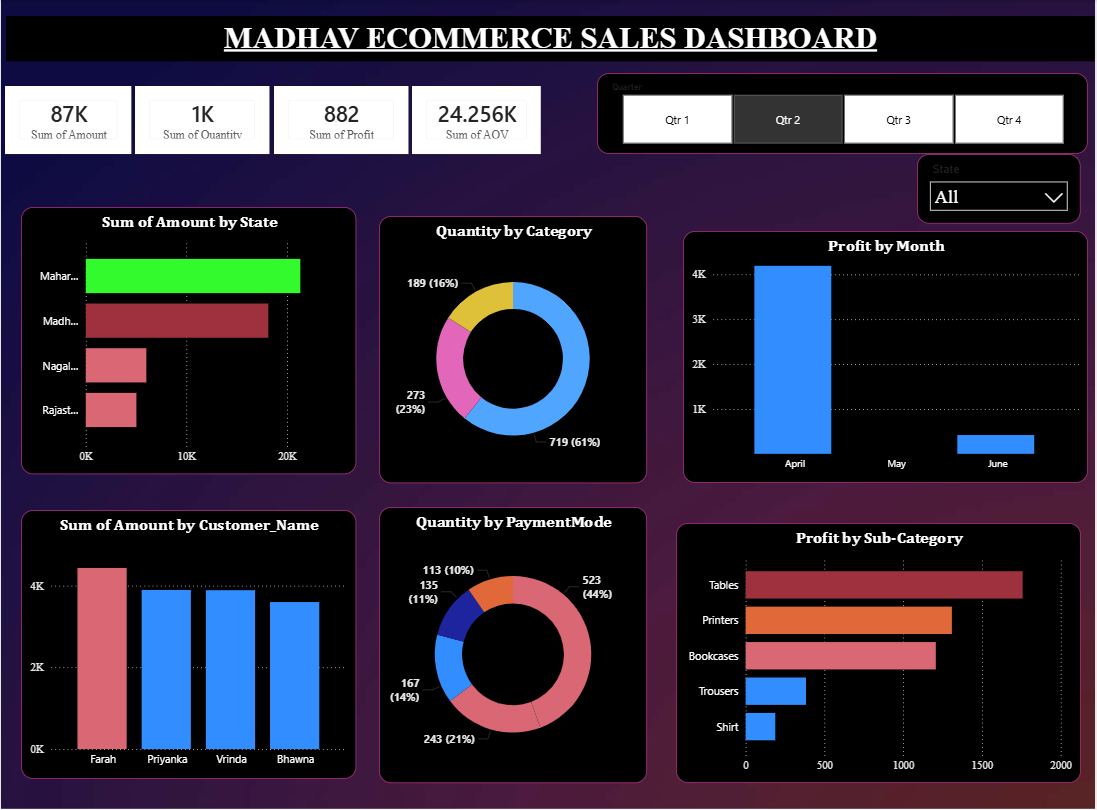

This screenshot's page, from the dashboard's own definition file:
{"tool":"powerbi","page":{"name":"Page 1","canvas":[1290,1000],"ordinal":0},"visuals":[{"type":"textbox","box":[6.5,19.6,1284,56.3],"z":0},{"type":"columnChart","title":"Profit by Month","fields":{"Category":["Orders.Order Date.Variation.Date Hierarchy.Month"],"Y":["Sum(Details.Profit)"]},"box":[780.1,297.1,500,311.5],"z":1000},{"type":"barChart","title":"Profit by Sub-Category","fields":{"Category":["Details.Sub-Category"],"Y":["Sum(Details.Profit)"]},"box":[780.1,645.3,500,322],"z":2000},{"type":"donutChart","title":"Quantity by Category","fields":{"Category":["Details.Category"],"Y":["Sum(Details.Quantity)"]},"box":[450.3,255.2,302.4,329.8],"z":3000},{"type":"donutChart","title":"Quantity by PaymentMode","fields":{"Y":["Sum(Details.Quantity)"],"Category":["Details.PaymentMode"]},"box":[450.3,625.7,302.4,341.6],"z":4000},{"type":"cardVisual","fields":{"Data":["Sum(Details.Amount)"]},"box":[4.6,106.5,156.4,83.9],"z":5000},{"type":"cardVisual","fields":{"Data":["Sum(Details.Quantity)"]},"box":[165.8,106.5,165.9,83.9],"z":6000},{"type":"cardVisual","fields":{"Data":["Sum(Details.Profit)"]},"box":[337.3,106.5,165.9,83.9],"z":7000},{"type":"cardVisual","fields":{"Data":["Sum(Details.AOV)"]},"box":[507.9,106.5,159.3,83.9],"z":8000},{"type":"columnChart","fields":{"Category":["Orders.Customer_Name"],"Y":["Sum(Details.Amount)"]},"box":[6.5,634.8,413.6,332.5],"z":9000},{"type":"barChart","fields":{"Category":["Orders.State"],"Y":["Sum(Details.Amount)"]},"box":[6.5,255.2,413.6,329.8],"z":10000},{"type":"slicer","fields":{"Values":["Orders.Order Date.Variation.Date Hierarchy.Quarter"]},"box":[684.6,90.3,606,99.5],"z":11000},{"type":"slicer","fields":{"Values":["Orders.State"]},"box":[1029.6,198.8,202.5,86.4],"z":12000}]}

Visuals, with their boxes in screenshot pixels (x1, y1, x2, y2):
textbox: bbox=(0, 0, 1096, 42)
"Profit by Month" columnChart: bbox=(662, 233, 1092, 501)
"Profit by Sub-Category" barChart: bbox=(662, 532, 1092, 809)
"Quantity by Category" donutChart: bbox=(379, 197, 639, 480)
"Quantity by PaymentMode" donutChart: bbox=(379, 515, 639, 809)
cardVisual - Sum(Details.Amount): bbox=(0, 69, 130, 141)
cardVisual - Sum(Details.Quantity): bbox=(134, 69, 277, 141)
cardVisual - Sum(Details.Profit): bbox=(282, 69, 424, 141)
cardVisual - Sum(Details.AOV): bbox=(428, 69, 565, 141)
columnChart - Orders.Customer_Name x Sum(Details.Amount): bbox=(0, 523, 353, 809)
barChart - Orders.State x Sum(Details.Amount): bbox=(0, 197, 353, 480)
slicer - Orders.Order Date.Variation.Date Hierarchy.Quarter: bbox=(580, 55, 1096, 140)
slicer - Orders.State: bbox=(877, 148, 1051, 222)
